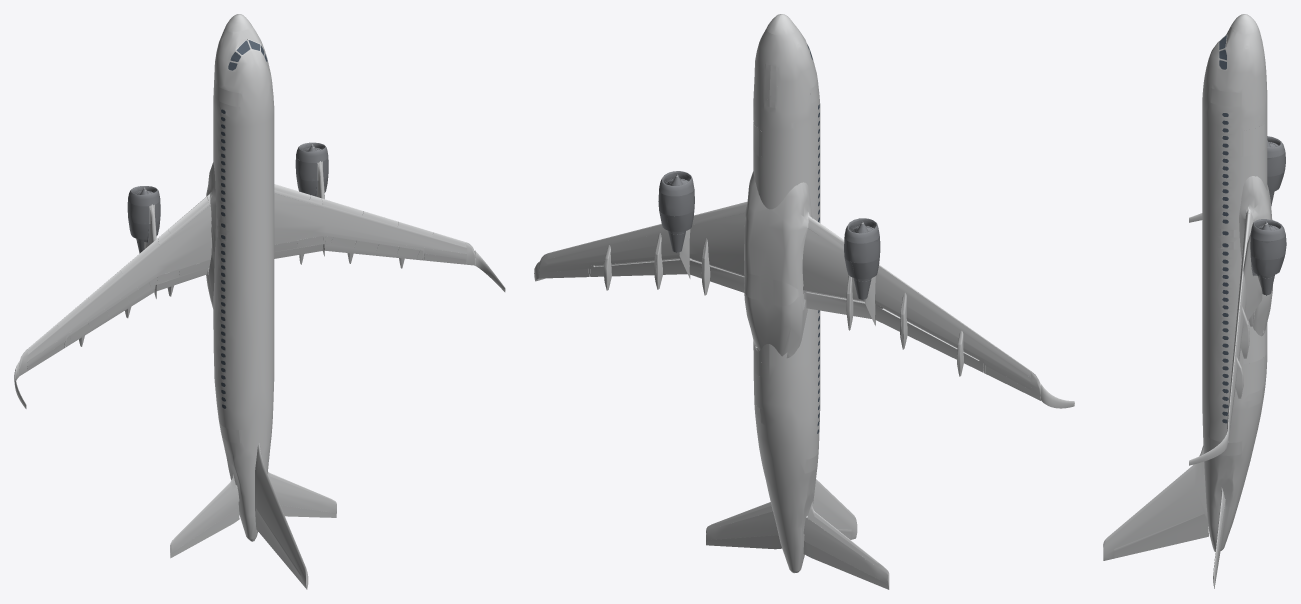
3 views of the same model, side by side, from view 1: azimuth 30°, elevation 25°; view 2: azimuth 150°, elevation 25°; view 3: azimuth 270°, elevation 25° (orthographic). The views are drawn at different scales.
Visible parts, largest first — view 1: A320; view 2: A320; view 3: A320.
Boxes of the visible parts, left/top/right/bottom form: A320: left=14, top=14, right=505, bottom=589; A320: left=534, top=14, right=1074, bottom=589; A320: left=1103, top=14, right=1286, bottom=588.
Size of the model in its own units: 35.86 by 37.57 by 11.42.
